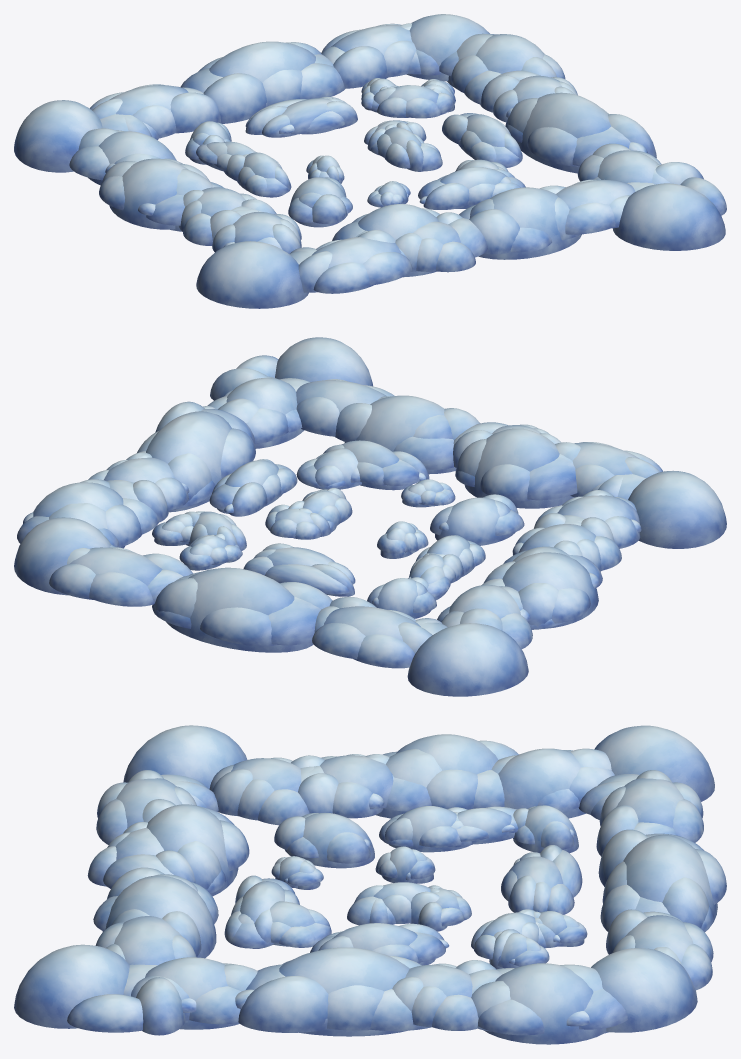
The model's file is snow_banks.glb.
3 views of the same model, one above another, from view 1: azimuth 30°, elevation 25°; view 2: azimuth 150°, elevation 25°; view 3: azimuth 270°, elevation 25° (orthographic). The views are drawn at different scales.
Parts seen in each view (by area): view 1: snow_banks; view 2: snow_banks; view 3: snow_banks.
Boxes of the visible parts, box(x1,y1,x2,y2) form: snow_banks: box(14, 14, 726, 308); snow_banks: box(14, 337, 726, 696); snow_banks: box(14, 725, 726, 1044).
Size of the model in its own units: 80.52 by 8.49 by 83.84.
Materials: 6 (6 with a texture image).
